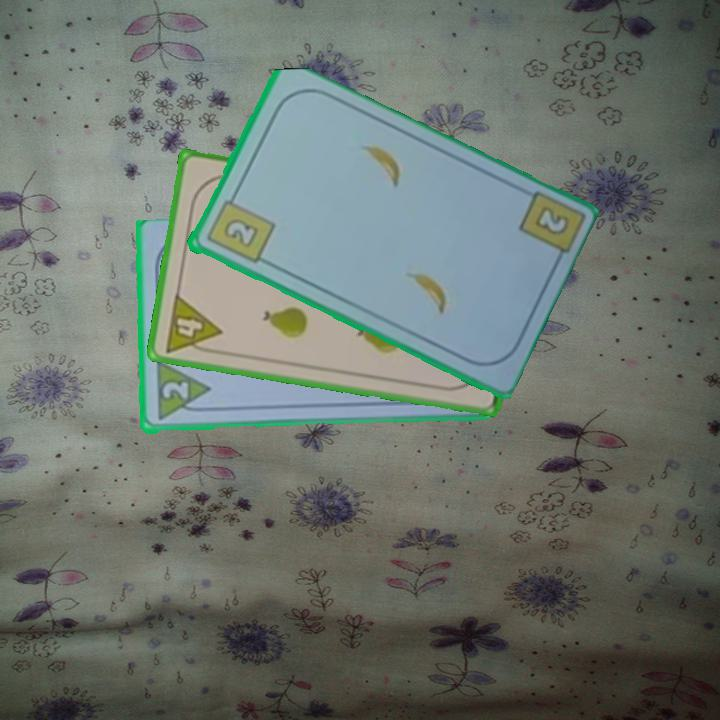2b: (202, 189, 277, 267), (530, 202, 569, 239)
2p: (152, 360, 213, 424)
4p: (161, 290, 224, 358)
